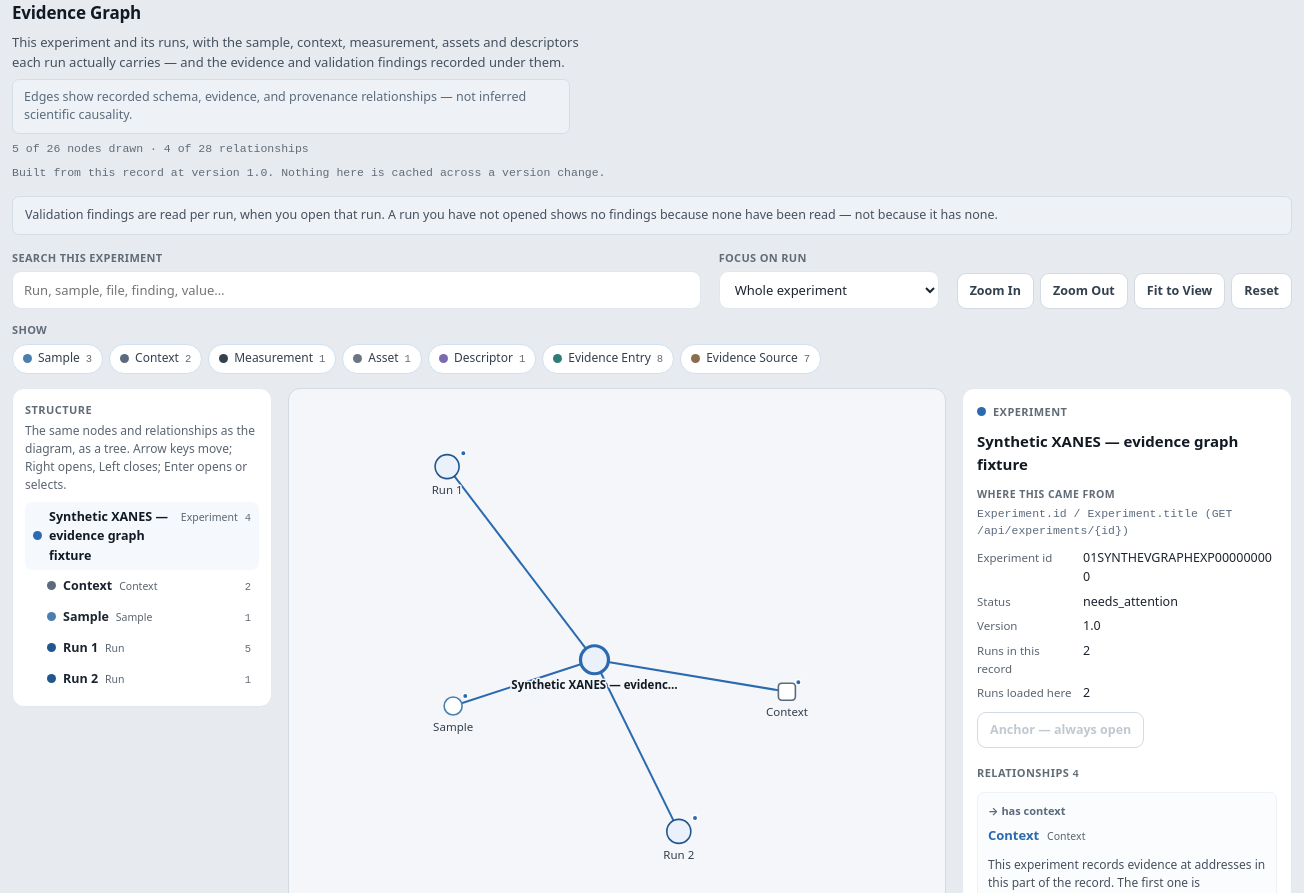
it: evidence graph · the rendered panel › reaches a non-containment relationship through the details pane
This screenshot has width=1304, height=893.
Step 1. Type "ex_situ" into the search field with id "evgraph-search-input" → (356, 290), box x1=12 y1=270 x2=701 y2=309
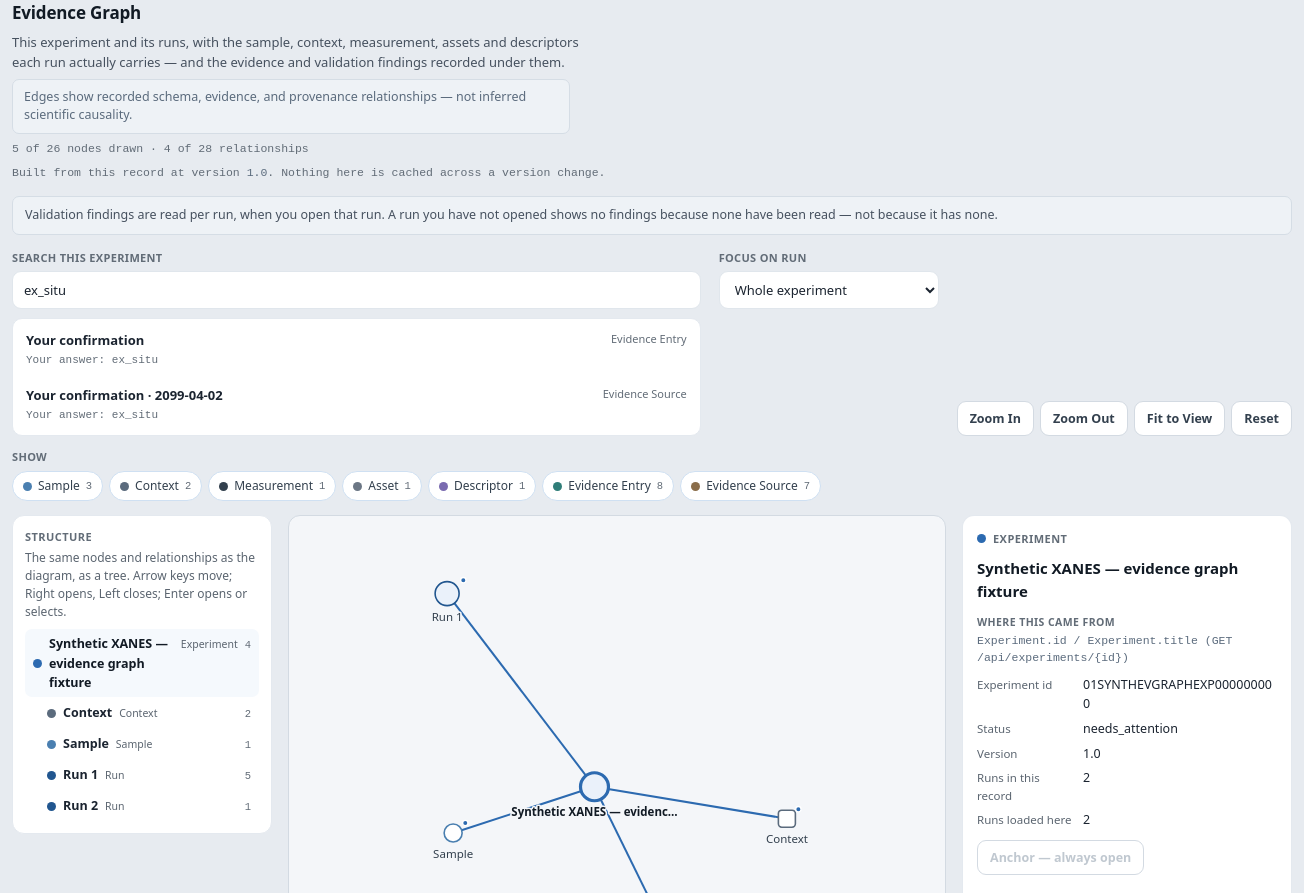
Step 2. Click the 1st option with class "evgraph-result" → (85, 340), box x1=17 y1=323 x2=696 y2=376
(page scrolled)
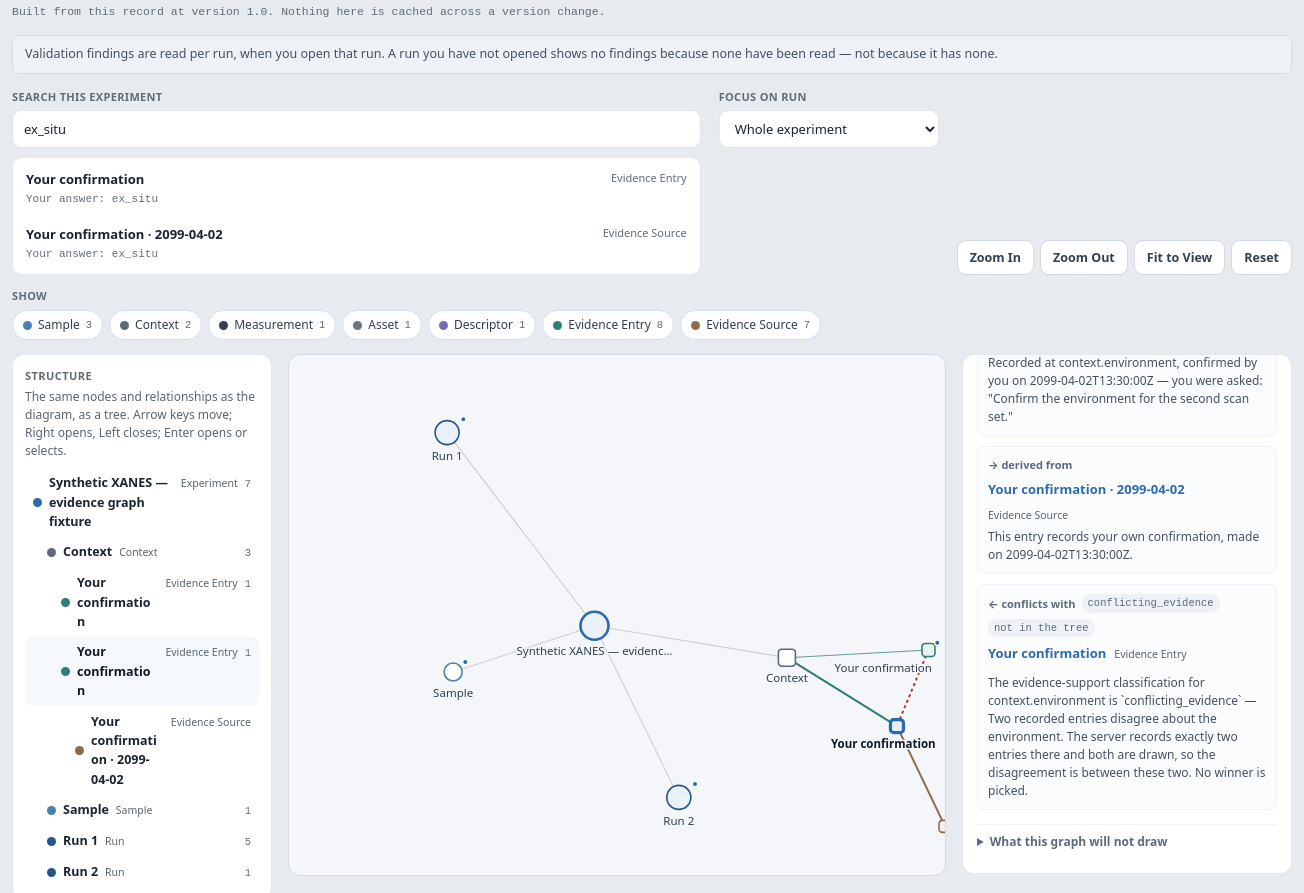
Check: the text with class "evgraph-conn-rel" shows "conflicts with", box x1=1001 y1=596 x2=1076 y2=611
Check: the text with class "evgraph-conn-cross" reads "not in the tree", box x1=994 y1=622 x2=1088 y2=634
Check: the text with class "evgraph-conn-why" shows "conflicting_evidence", box x1=988 y1=674 x2=1266 y2=799
